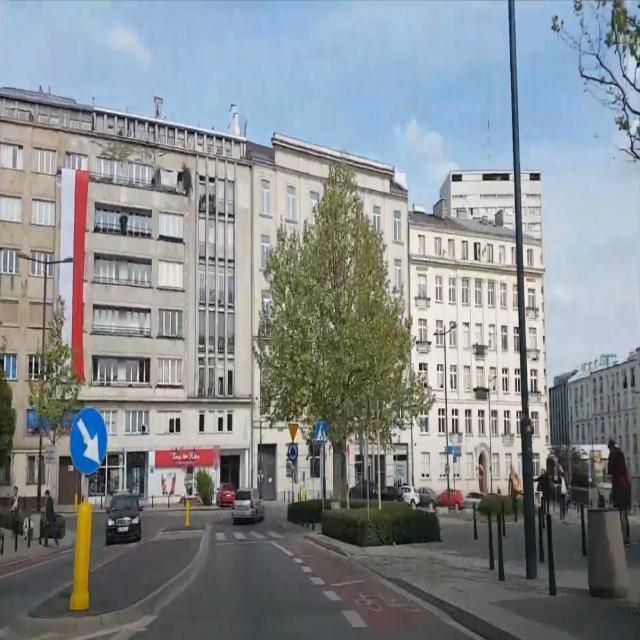Przejscie dla pieszych: (316, 420, 328, 444)
Ustap pierwszenstwa: (287, 422, 299, 442)
